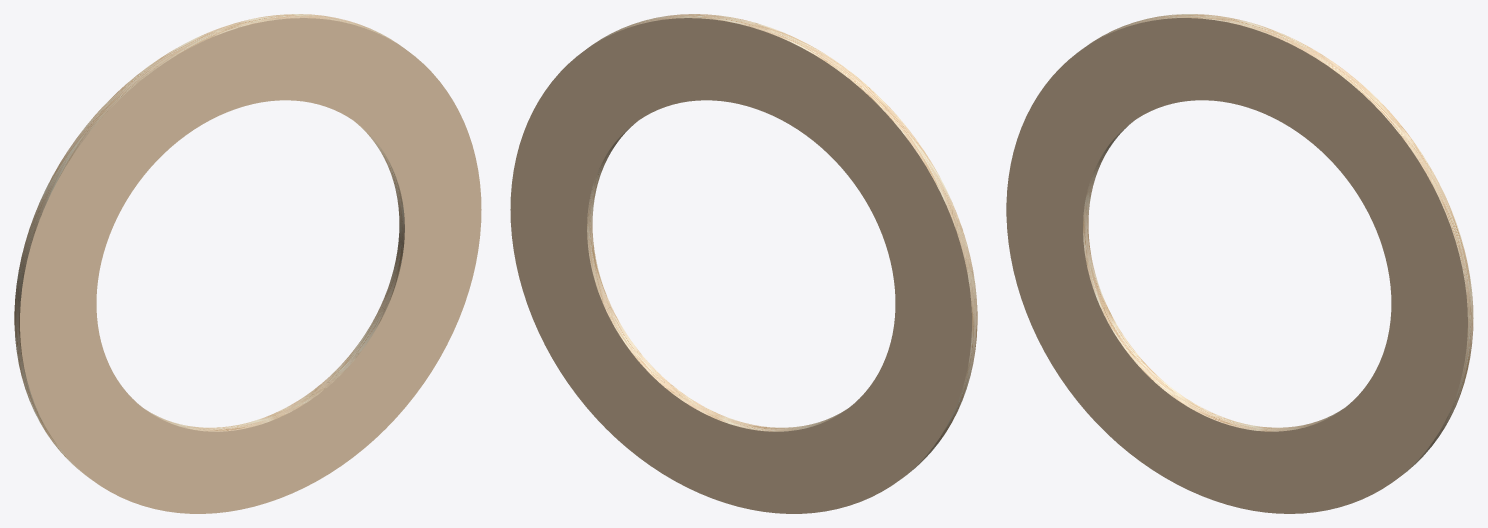
Rendered from mid_centering_ring.obj.
3 views of the same model, side by side, from view 1: azimuth 30°, elevation 25°; view 2: azimuth 150°, elevation 25°; view 3: azimuth 330°, elevation 25° (orthographic).
Parts seen in each view (by area): view 1: 2_Mid Centering Ring (MUTD); view 2: 2_Mid Centering Ring (MUTD); view 3: 2_Mid Centering Ring (MUTD).
Part boxes in pixels (bbox=[...]): 2_Mid Centering Ring (MUTD): bbox=[14, 14, 481, 513]; 2_Mid Centering Ring (MUTD): bbox=[510, 14, 977, 513]; 2_Mid Centering Ring (MUTD): bbox=[1006, 14, 1473, 513].
Size of the model in its own units: 3.05 by 3.05 by 0.0635.
Materials: 1 (1 with a texture image).
